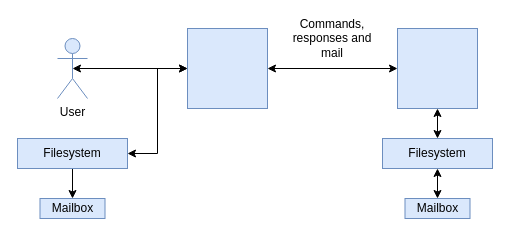
Image size: 510x236. Some labels were removed from this diagram. The centre of each missing label's shape, as x and y in pixels:
"POP3 client" belongs at pixel 227 68.
"POP3 server (TCP Port 110/995)" belongs at pixel 437 68.
